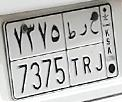3: (26, 23, 42, 91)
5: (51, 24, 66, 88)
7: (13, 26, 27, 96)
J: (90, 15, 104, 72)
R: (80, 23, 91, 76)
T: (66, 21, 79, 76)
